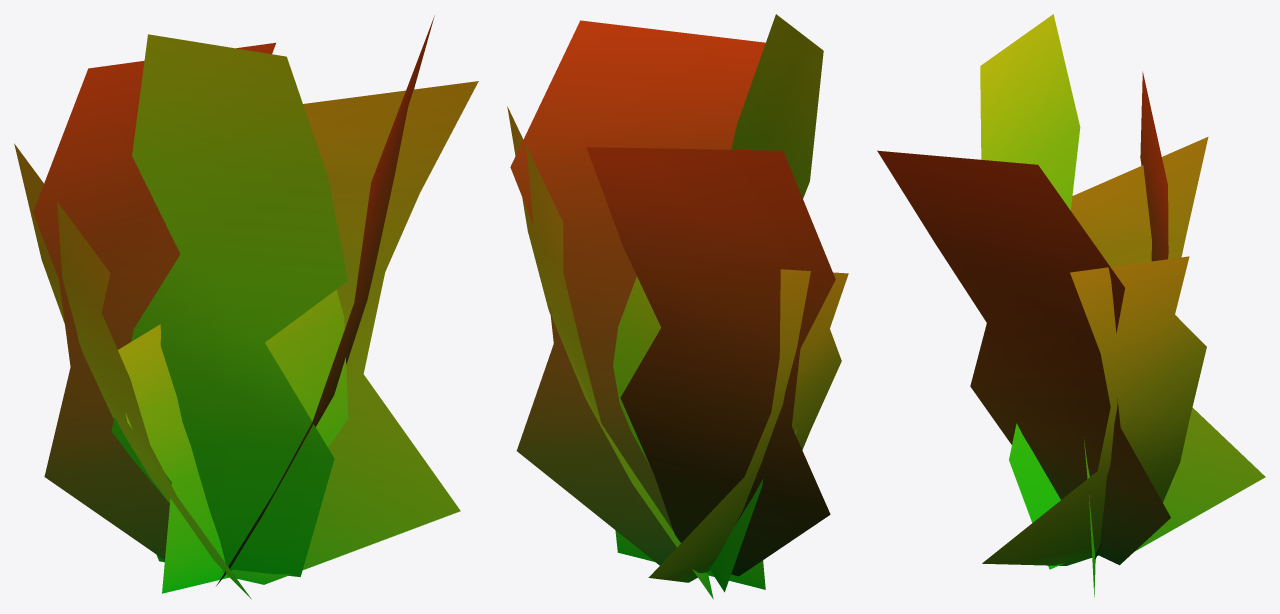
Rendered from Var8Hi18.fbx.
3 views of the same model, side by side, from view 1: azimuth 30°, elevation 25°; view 2: azimuth 150°, elevation 25°; view 3: azimuth 270°, elevation 25° (orthographic). The views are drawn at different scales.
Visible parts, largest first — view 1: bend1; view 2: bend1; view 3: bend1.
Part boxes in pixels (left/top/right/bottom): bend1: left=14, top=15, right=478, bottom=599; bend1: left=507, top=14, right=848, bottom=599; bend1: left=877, top=14, right=1265, bottom=597.
Size of the model in its own units: 1.27 by 1.76 by 1.24.
